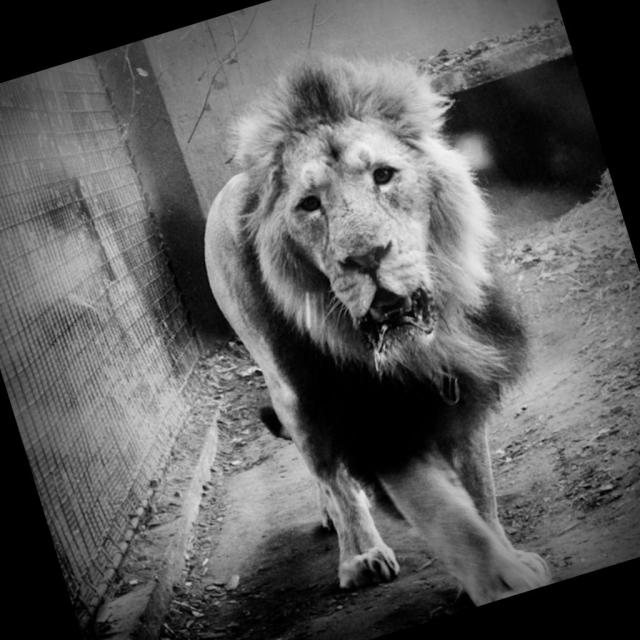Lion: (149, 8, 605, 640)
